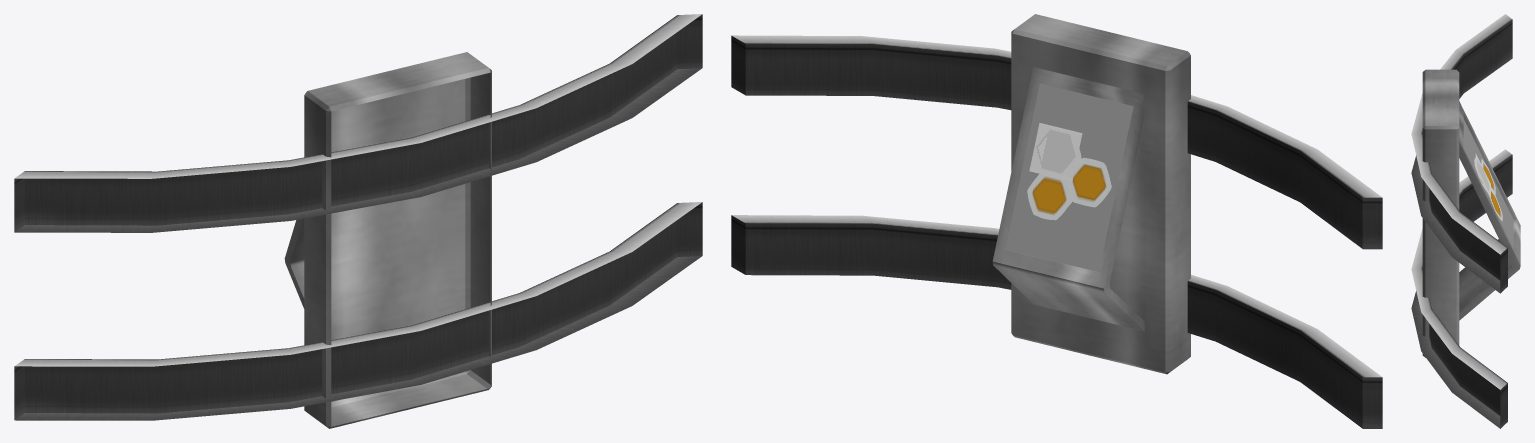
The model's file is Endor_Panel.fbx.
The picture shows the model from 3 angles, left to right: view 1: azimuth 30°, elevation 25°; view 2: azimuth 150°, elevation 25°; view 3: azimuth 270°, elevation 25°; orthographic projection. The views are drawn at different scales.
Visible parts, largest first — view 1: PanelMountingBars, Panel; view 2: PanelMountingBars, Panel, PanelRearScreen, PanelFrontScreen, pPlane2; view 3: PanelMountingBars, Panel, PanelRearScreen, PanelFrontScreen, pPlane2.
Boxes of the visible parts, x1,y1,x2,y2 form: PanelMountingBars: (14, 14, 702, 420); Panel: (284, 52, 491, 428); PanelMountingBars: (731, 35, 1382, 428); Panel: (992, 14, 1190, 374); PanelRearScreen: (1005, 83, 1133, 272); PanelFrontScreen: (1027, 148, 1111, 220); pPlane2: (1029, 123, 1082, 181); PanelMountingBars: (1411, 14, 1512, 428); Panel: (1422, 69, 1520, 357); PanelRearScreen: (1463, 119, 1513, 248); PanelFrontScreen: (1474, 158, 1502, 221); pPlane2: (1475, 153, 1490, 198).
Bounding box in the file's own units: 18.4 × 8.27 × 3.53.
Materials: 5 (4 with a texture image).
